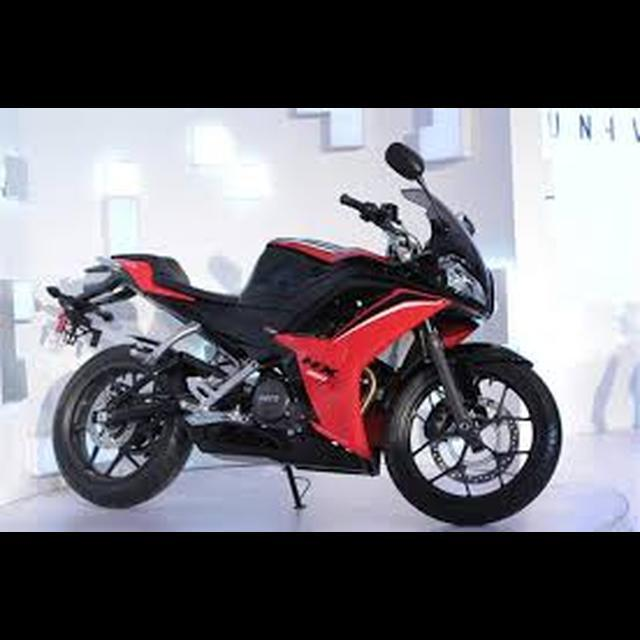motorcycle: (43, 135, 569, 531)
